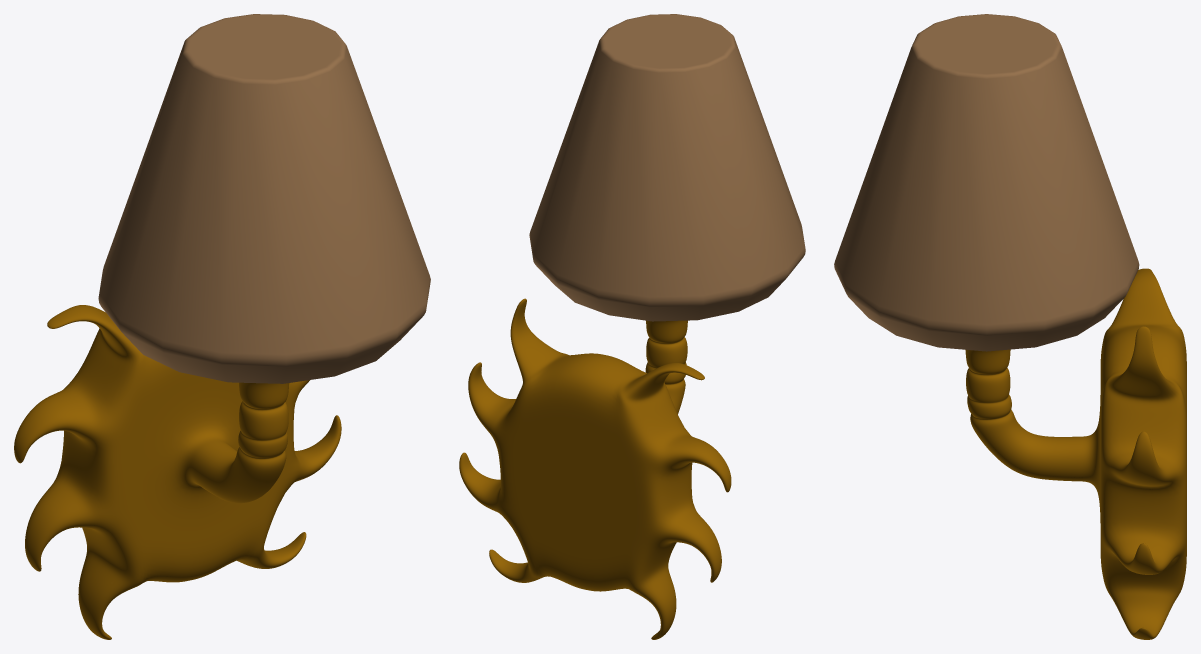
File: CorridorLamb.fbx
The picture shows the model from 3 angles, left to right: view 1: azimuth 30°, elevation 25°; view 2: azimuth 150°, elevation 25°; view 3: azimuth 270°, elevation 25°; orthographic projection. The views are drawn at different scales.
Parts seen in each view (by area): view 1: CorridorLamb; view 2: CorridorLamb; view 3: CorridorLamb.
Part boxes in pixels (x1,y1,x2,y2): CorridorLamb: (14, 14, 430, 639); CorridorLamb: (459, 14, 805, 639); CorridorLamb: (834, 14, 1186, 639).
Size of the model in its own units: 0.35 by 0.66 by 0.3629.
